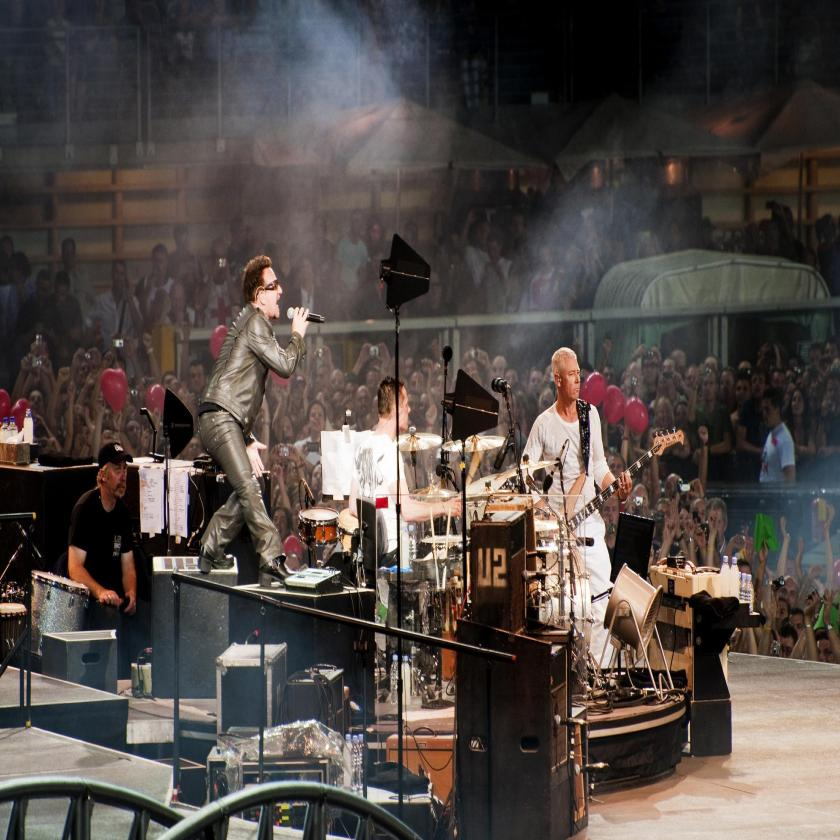Sin_casco: (242, 250, 285, 327), (551, 344, 586, 414), (377, 374, 413, 440), (758, 391, 784, 432)
